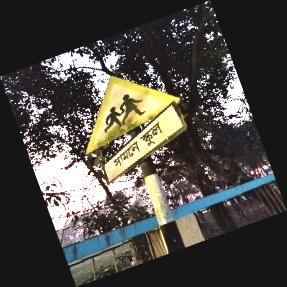School-in-front: (85, 74, 186, 186)
